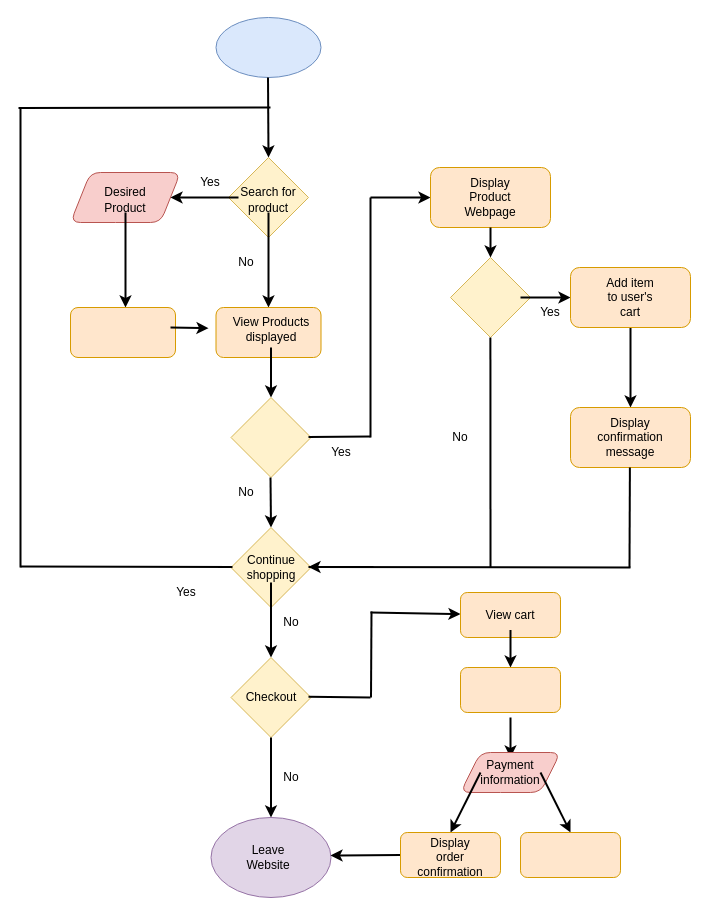
This 708x915 diagram has some shape labels left out. The centre of each missing label's shape, as x and y in pixels:
Add to cart: the point at 490,297
Enter Website: the point at 268,47
Populate page with similar products: the point at 123,332
Send confirmation email: the point at 570,855
View payment: the point at 510,689
View specific product: the point at 270,437
